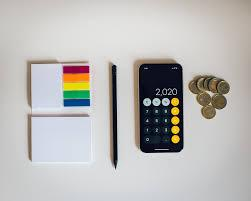Calculator: (137, 84, 188, 152)
